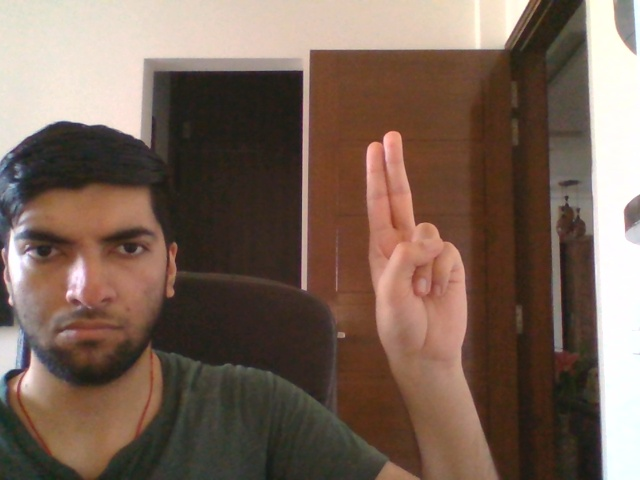LetterU: (364, 128, 469, 364)
